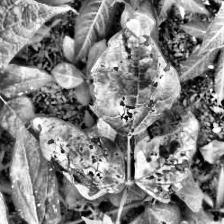ALS: (96, 0, 172, 137), (29, 116, 126, 198), (136, 111, 200, 200)
